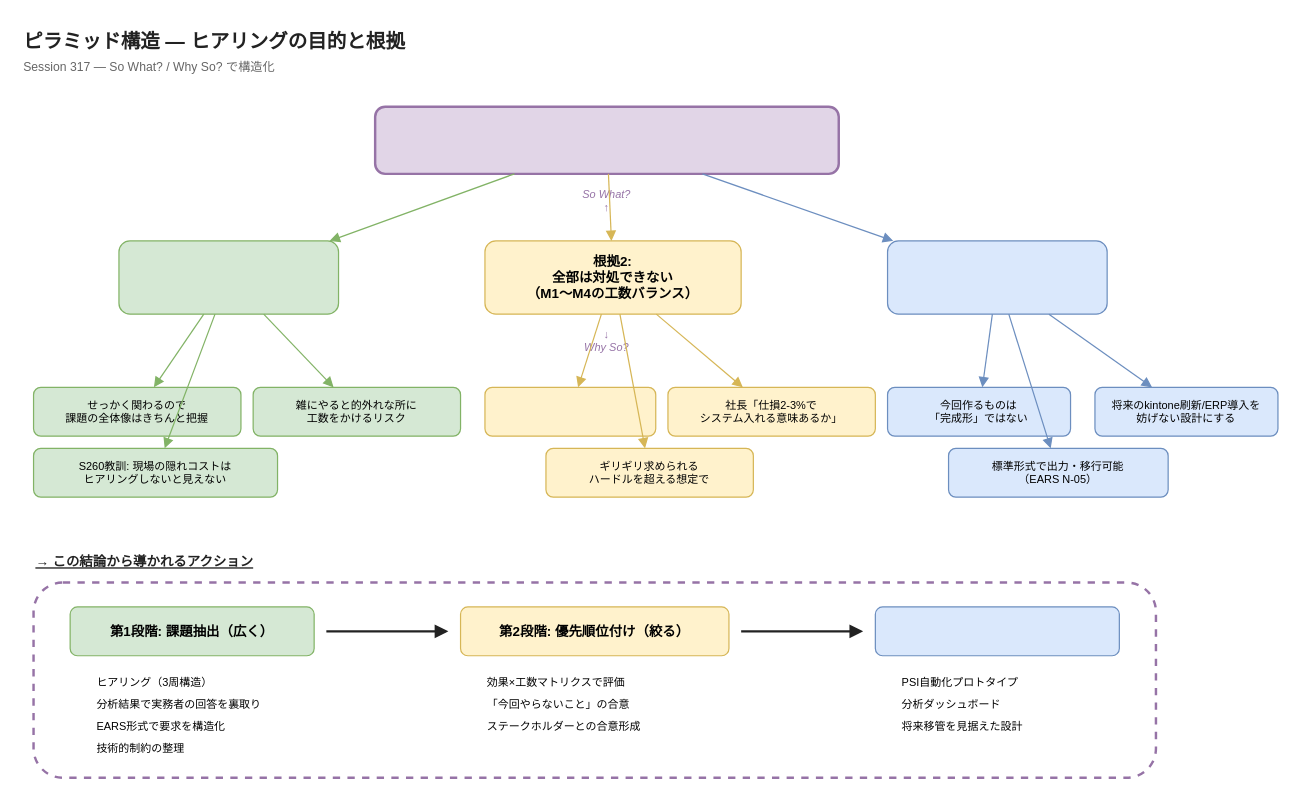
This 1299x799 diagram has some shape labels left out. Here are the shapes that lost their labels. From the top down, the centre of each, then its label:
At point (606, 139): "結論: 課題を網羅的に抽出した上で 最小工数で効果が出るターゲットを合意する".
At point (228, 277): "根拠1: 課題は網羅的に 把握すべき".
At point (996, 277): "根拠3: 将来のシステム移管を 見据える".
At point (570, 411): "M1-B(GNSS) 4月再開 ツール完成4/30".
At point (996, 631): "第3段階: 対処（最小工数）".
